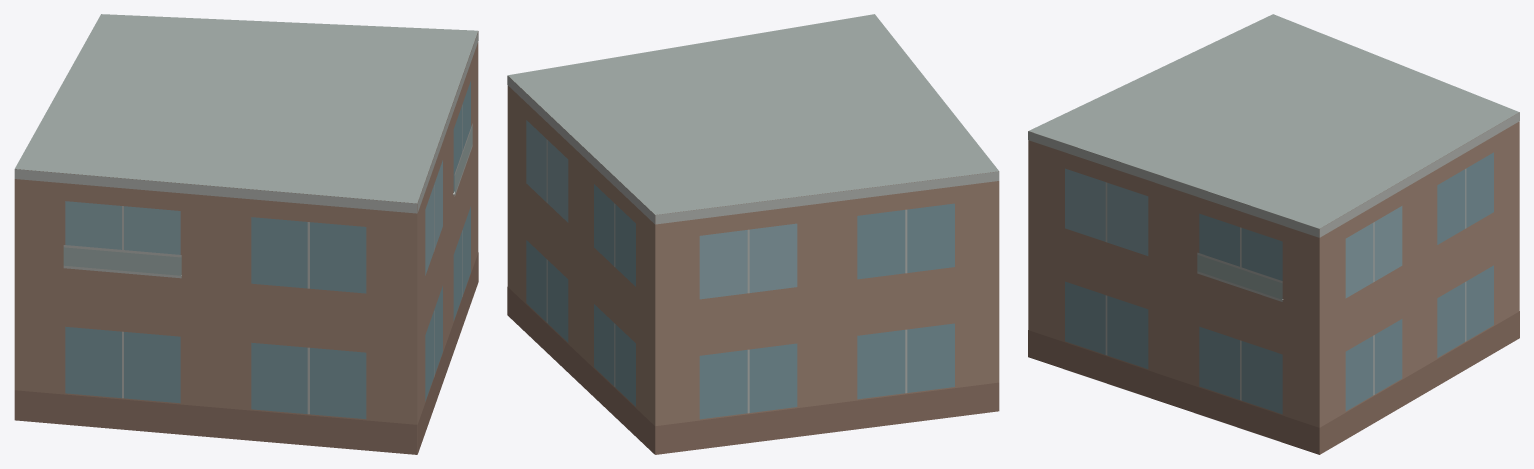
The model's file is survey-upis-32645289.glb.
3 renders of one model, left to right at view 1: azimuth 30°, elevation 25°; view 2: azimuth 150°, elevation 25°; view 3: azimuth 270°, elevation 25°, orthographic. The views are drawn at different scales.
Parts seen in each view (by area): view 1: survey-upis-32645289.tmp; view 2: survey-upis-32645289.tmp; view 3: survey-upis-32645289.tmp.
Boxes of the visible parts, box(x1,y1,x2,y2) form: survey-upis-32645289.tmp: box(14, 14, 478, 454); survey-upis-32645289.tmp: box(507, 14, 999, 454); survey-upis-32645289.tmp: box(1028, 14, 1519, 454).
Bounding box in the file's own units: 12.44 × 6.1 × 12.03.
